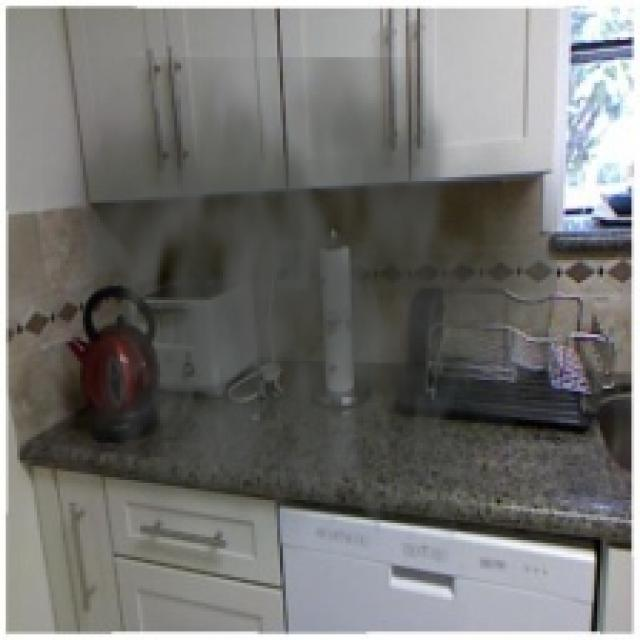smoke: (43, 57, 557, 589)
